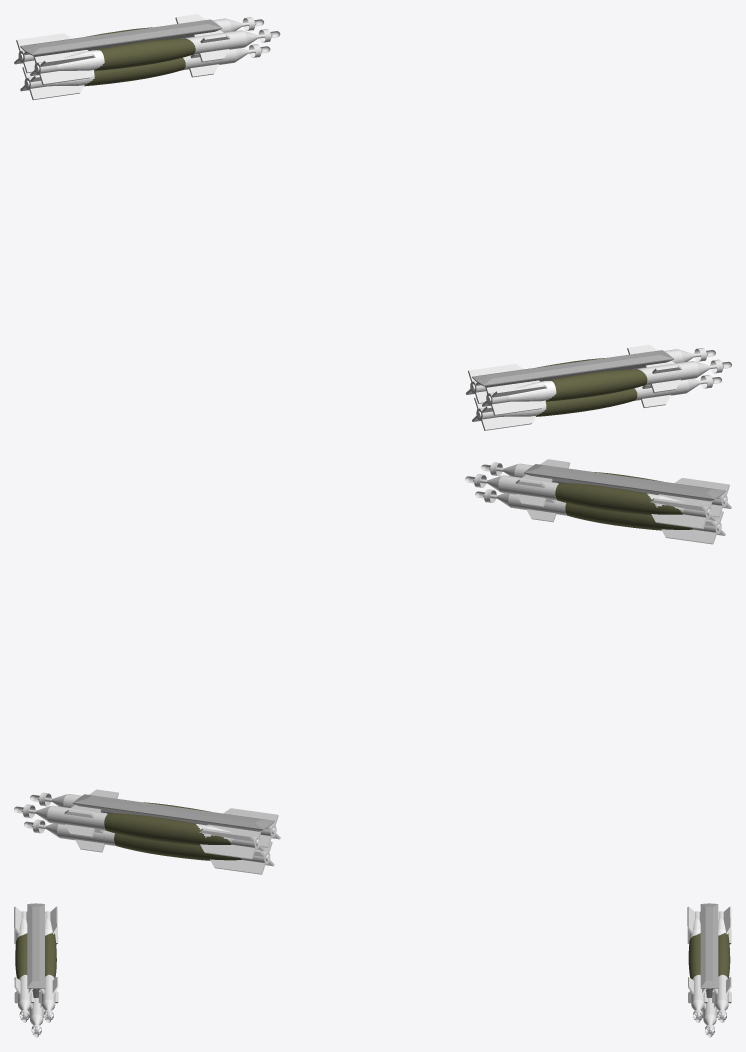
The model's file is a10cgbu12110.glb.
The picture shows the model from 3 angles, top to bottom: view 1: azimuth 30°, elevation 25°; view 2: azimuth 150°, elevation 25°; view 3: azimuth 270°, elevation 25°; orthographic projection. The views are drawn at different scales.
Parts seen in each view (by area): view 1: 円柱.014, 円柱.017, 円柱.015, 円柱.018, 立方体.005, 立方体.006, 円柱.016, 円柱.019; view 2: 円柱.016, 円柱.019, 円柱.015, 円柱.018, 立方体.005, 立方体.006, 円柱.017, 円柱.014; view 3: 立方体.005, 立方体.006, 円柱.017, 円柱.016, 円柱.014, 円柱.019, 円柱.018, 円柱.015.
Part boxes in pixels (<box>): 円柱.014: <box>30,29,280,84</box>; 円柱.017: <box>482,359,731,415</box>; 円柱.015: <box>20,44,270,99</box>; 円柱.018: <box>472,375,721,430</box>; 立方体.005: <box>20,19,222,63</box>; 立方体.006: <box>472,350,673,393</box>; 円柱.016: <box>14,14,264,73</box>; 円柱.019: <box>466,344,715,403</box>; 円柱.016: <box>14,804,264,859</box>; 円柱.019: <box>465,474,715,529</box>; 円柱.015: <box>24,819,274,874</box>; 円柱.018: <box>475,489,725,544</box>; 立方体.005: <box>72,794,274,831</box>; 立方体.006: <box>524,464,725,507</box>; 円柱.017: <box>481,459,731,517</box>; 円柱.014: <box>30,789,280,847</box>; 立方体.005: <box>700,903,718,997</box>; 立方体.006: <box>27,903,44,997</box>; 円柱.017: <box>14,906,34,1022</box>; 円柱.016: <box>712,906,731,1022</box>; 円柱.014: <box>687,906,707,1022</box>; 円柱.019: <box>38,906,58,1022</box>; 円柱.018: <box>26,989,46,1037</box>; 円柱.015: <box>700,989,719,1037</box>.
Size of the model in its own units: 3.72 by 0.9473 by 12.54.
4 materials, 1 textured.
